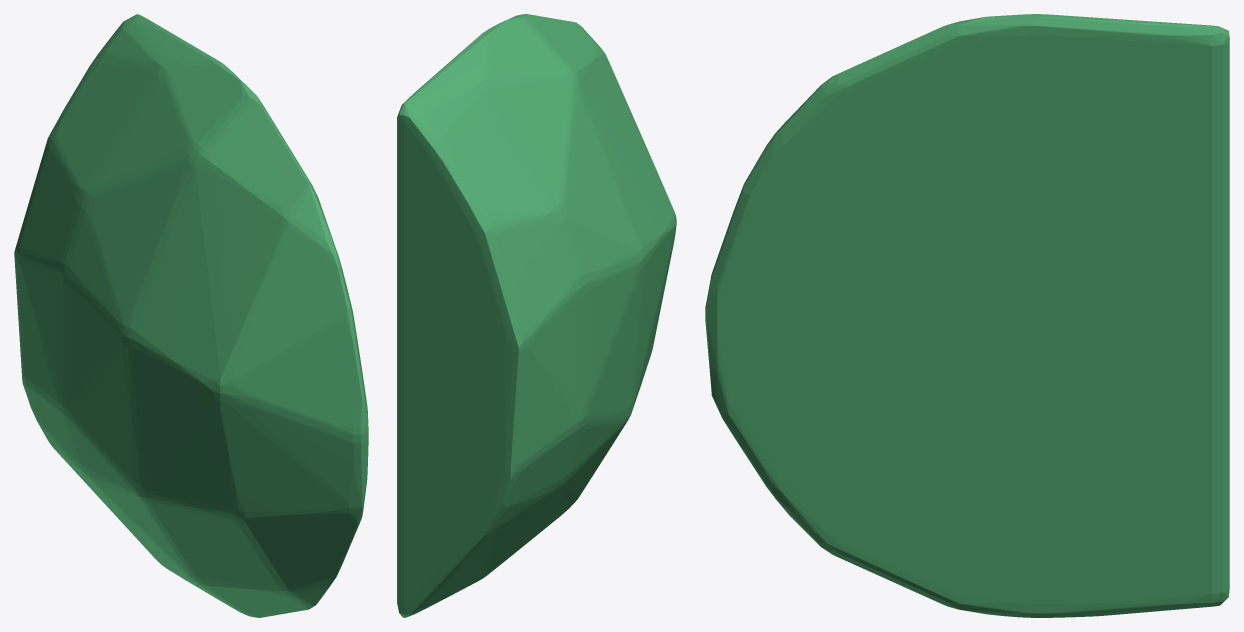
File: left_th_proximal_part_3.obj
3 views of the same model, side by side, from view 1: azimuth 30°, elevation 25°; view 2: azimuth 150°, elevation 25°; view 3: azimuth 270°, elevation 25° (orthographic). The views are drawn at different scales.
Bounding box in the file's own units: 4.61 × 17.51 × 13.85.
